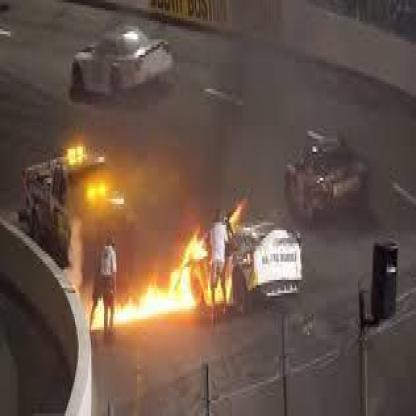fire: (84, 234, 236, 328), (228, 199, 244, 226)
other: (83, 177, 114, 204), (66, 136, 84, 168)
